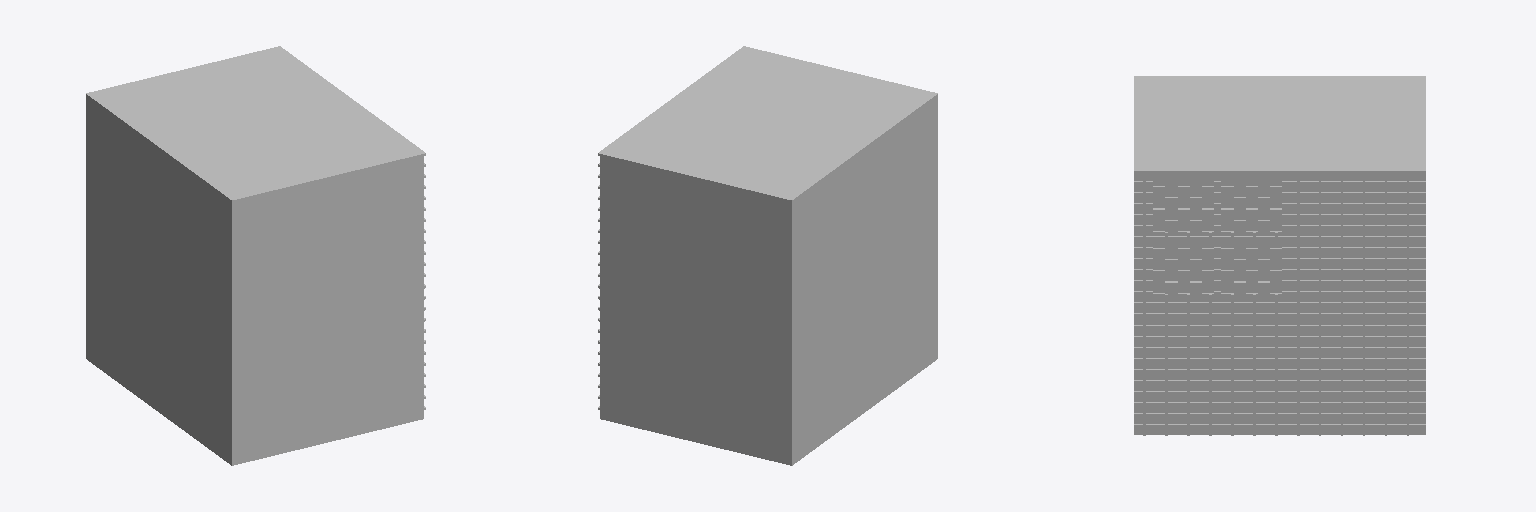
File: 3d fon 1.1-1.obj
3 renders of one model, left to right at view 1: azimuth 30°, elevation 25°; view 2: azimuth 150°, elevation 25°; view 3: azimuth 270°, elevation 25°, orthographic.
Parts seen in each view (by area): view 1: object 1; view 2: object 1; view 3: object 1.
Part boxes in pixels (bbox=[...]): object 1: bbox=[86, 46, 425, 465]; object 1: bbox=[598, 46, 937, 465]; object 1: bbox=[1134, 76, 1425, 435].
Bounding box in the file's own units: 9.2 × 12 × 12.